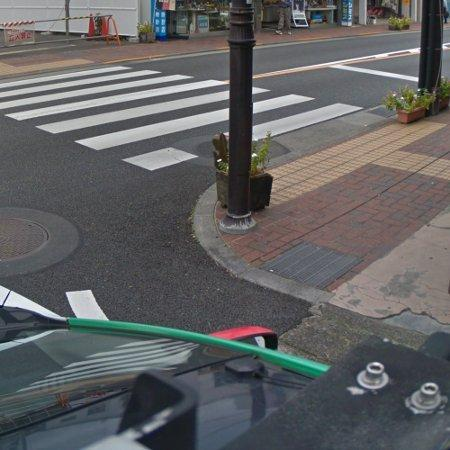crosswalks: (1, 62, 365, 174)
